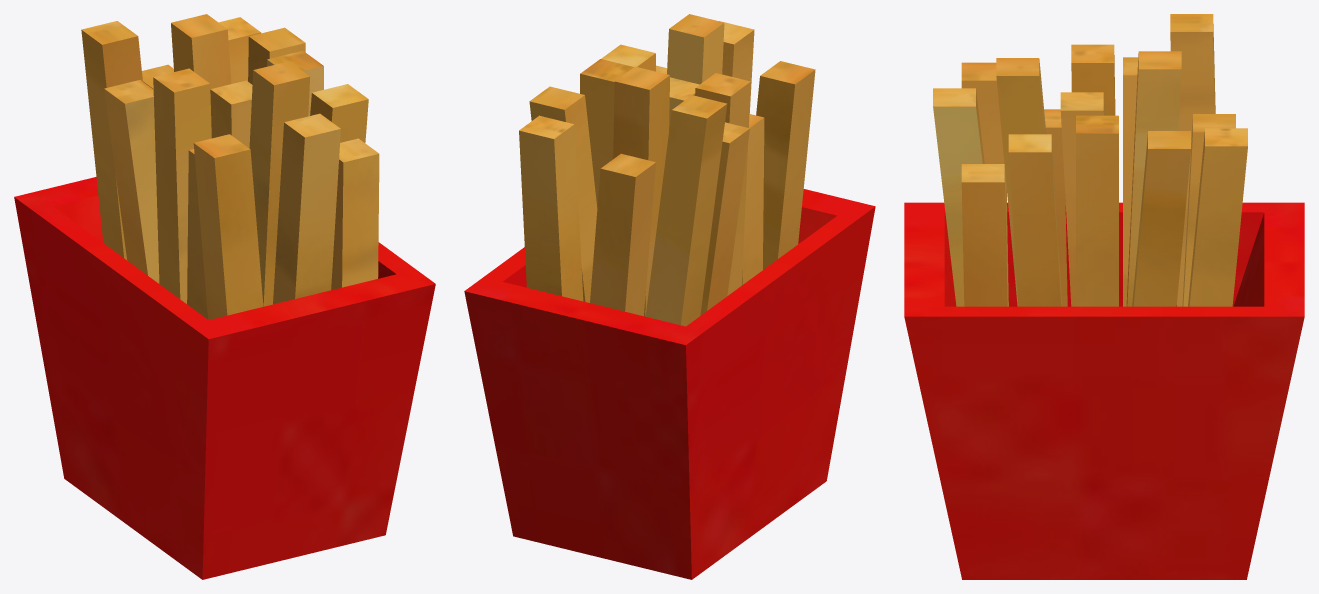
The model's file is Max_Fries.FBX.
3 views of the same model, side by side, from view 1: azimuth 30°, elevation 25°; view 2: azimuth 150°, elevation 25°; view 3: azimuth 270°, elevation 25° (orthographic). The views are drawn at different scales.
Parts seen in each view (by area): view 1: Fries; view 2: Fries; view 3: Fries.
Boxes of the visible parts, box(x1,y1,x2,y2) form: Fries: box(14, 14, 435, 579); Fries: box(464, 14, 875, 579); Fries: box(904, 14, 1304, 579).
Bounding box in the file's own units: 21.53 × 41.73 × 31.93.
1 material, 1 textured.
